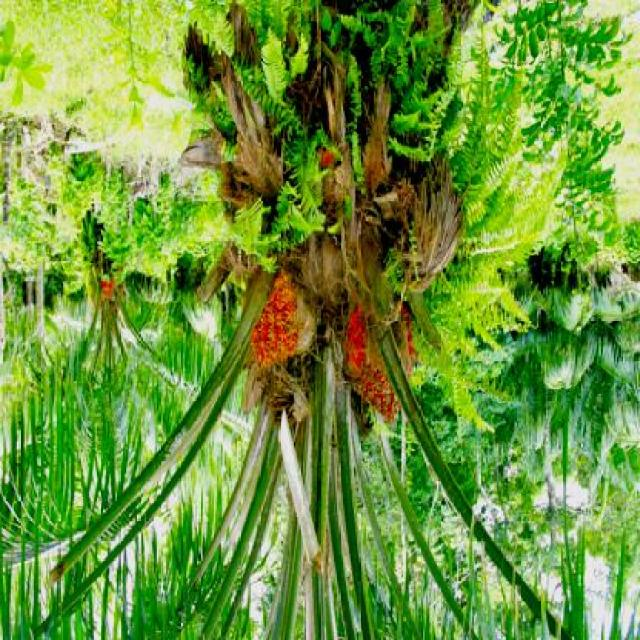palm-oil: (353, 291, 420, 421), (242, 265, 312, 375)
